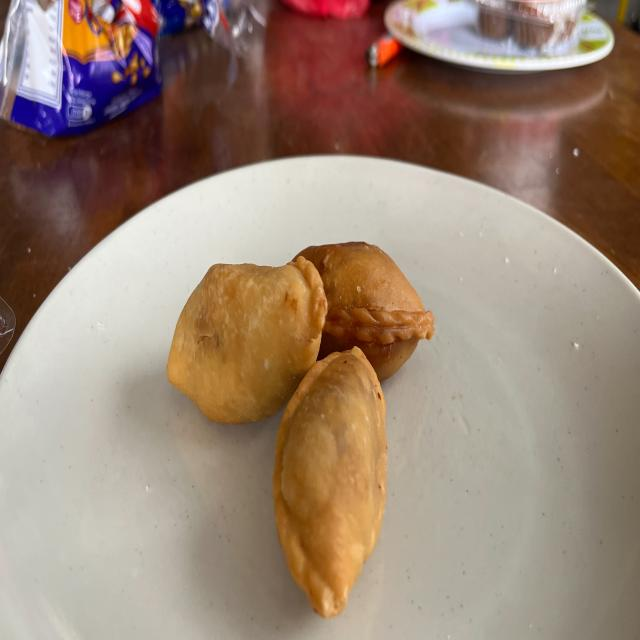karipap: (272, 347, 386, 618), (166, 258, 328, 424), (300, 242, 435, 378)
